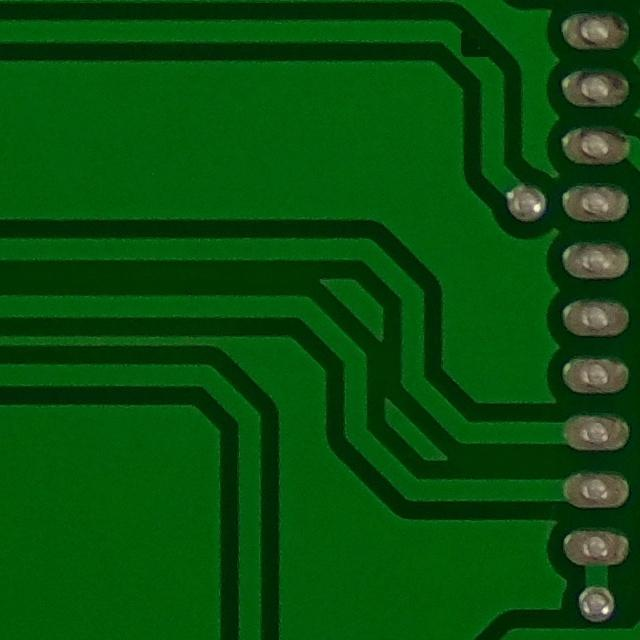mouse_bite: (438, 15, 505, 80)
